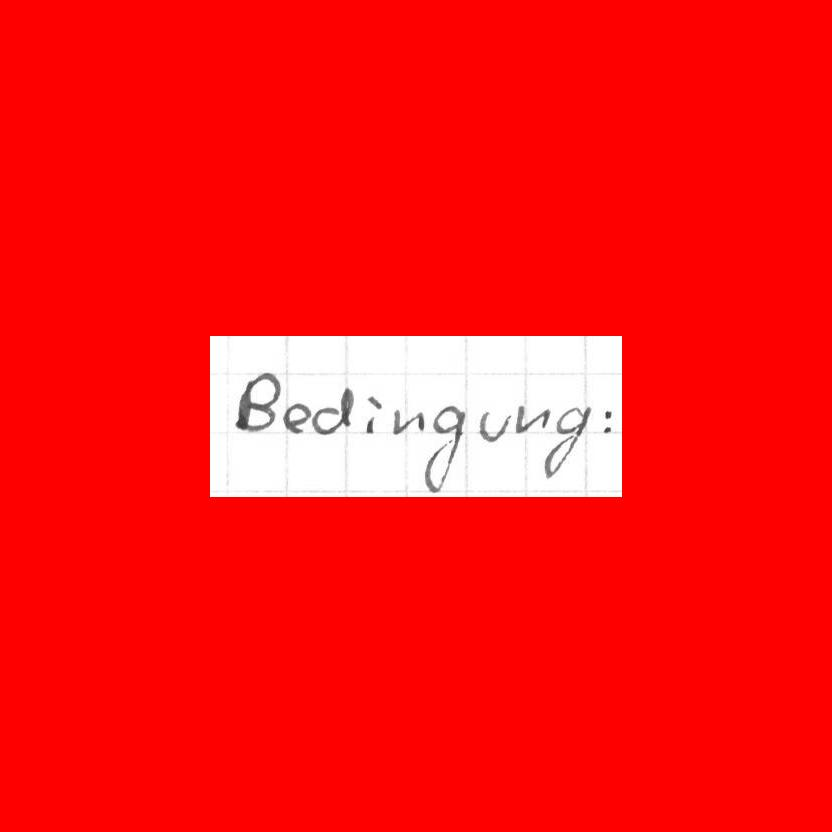Char: (423, 402, 466, 494), (542, 403, 592, 480), (236, 372, 281, 431), (311, 383, 355, 434), (476, 407, 512, 443), (515, 402, 552, 435), (390, 405, 426, 436), (282, 400, 311, 433), (363, 392, 384, 435), (600, 406, 615, 436)
